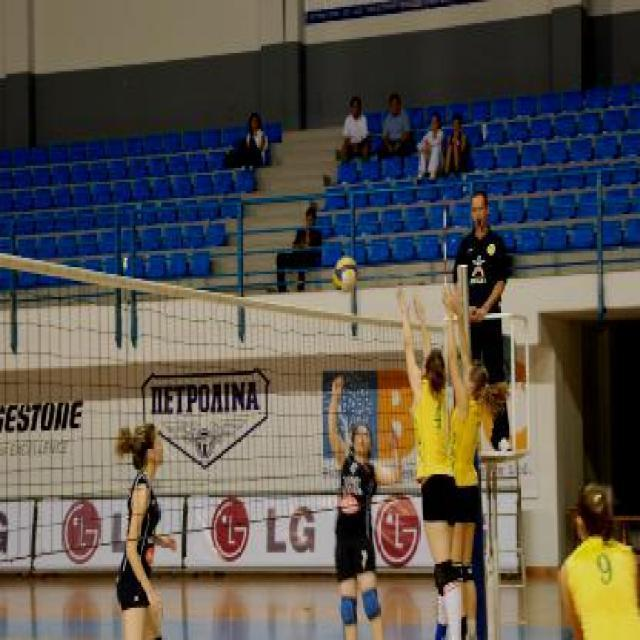volleyball: (331, 256, 358, 292)
